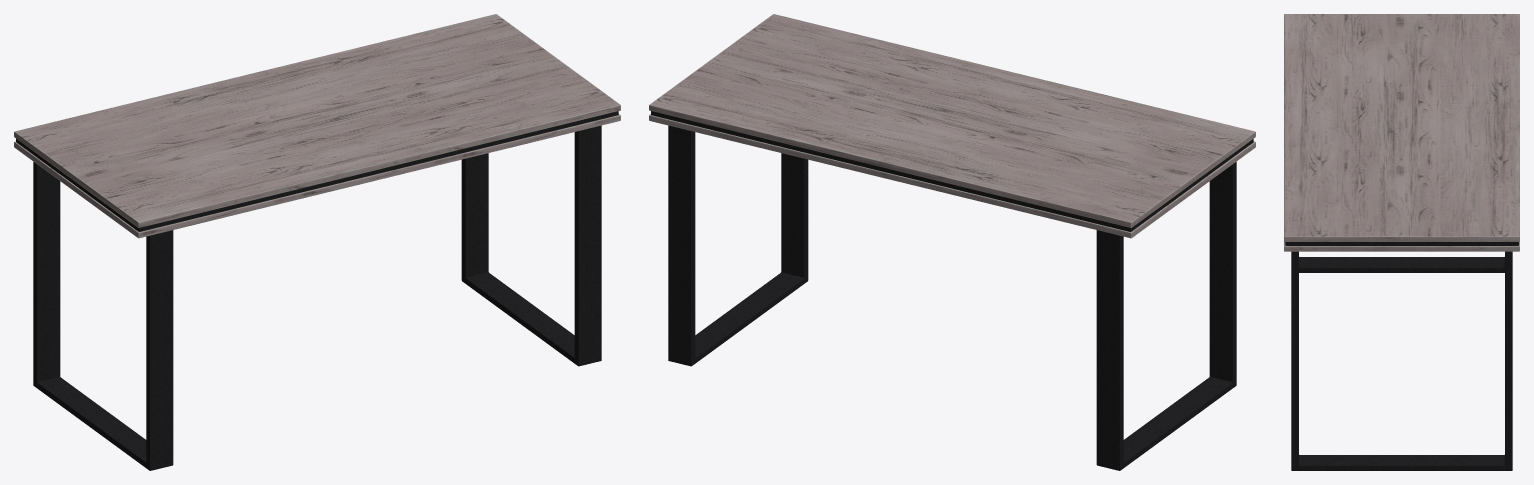
The model's file is table_B07H8SSY2P.glb.
3 views of the same model, side by side, from view 1: azimuth 30°, elevation 25°; view 2: azimuth 150°, elevation 25°; view 3: azimuth 270°, elevation 25° (orthographic). The views are drawn at different scales.
Visible parts, largest first — view 1: RootNode; view 2: RootNode; view 3: RootNode.
Part boxes in pixels (box(x1,y1,x2,y2)): RootNode: box(14, 14, 620, 470); RootNode: box(649, 14, 1255, 470); RootNode: box(1284, 14, 1519, 470).
Size of the model in its own units: 1.78 by 0.899 by 0.7953.
Materials: 1 (1 with a texture image).
